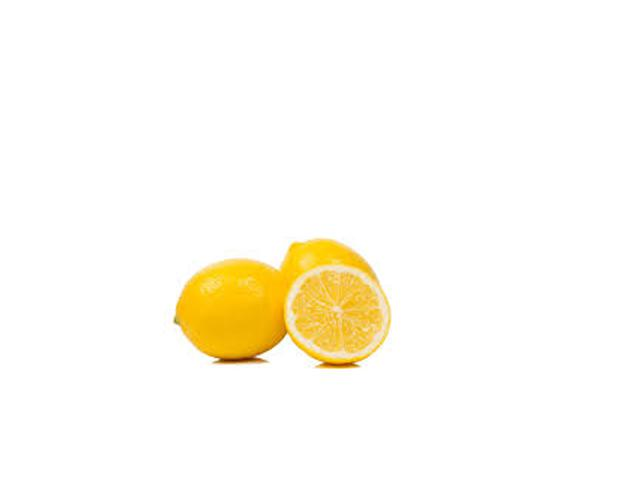lemon: (273, 229, 401, 337)
